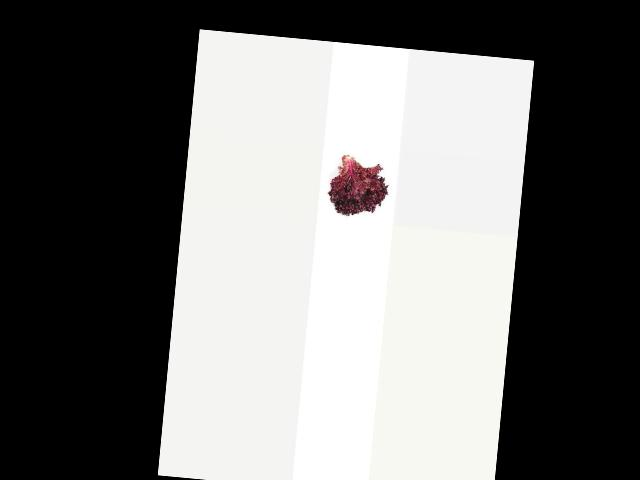lettuce: (328, 147, 393, 222)
